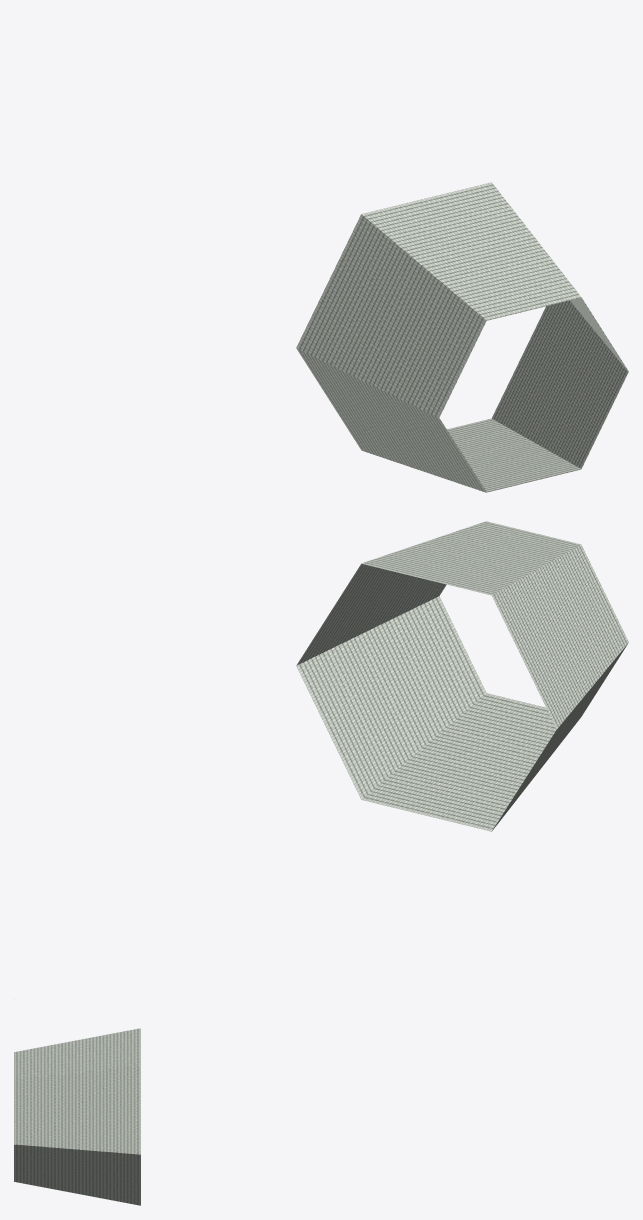
File: MeshFloorLamp_27_0_GeomSubset_2.obj
3 renders of one model, top to bottom at view 1: azimuth 30°, elevation 25°; view 2: azimuth 150°, elevation 25°; view 3: azimuth 270°, elevation 25°, orthographic. The views are drawn at different scales.
Parts seen in each view (by area): view 1: MeshFloorLamp_27_0_GeomSubset_2; view 2: MeshFloorLamp_27_0_GeomSubset_2; view 3: MeshFloorLamp_27_0_GeomSubset_2.
Part boxes in pixels (bbox=[...]): MeshFloorLamp_27_0_GeomSubset_2: bbox=[296, 182, 628, 492]; MeshFloorLamp_27_0_GeomSubset_2: bbox=[296, 521, 628, 831]; MeshFloorLamp_27_0_GeomSubset_2: bbox=[14, 1028, 140, 1205].
Size of the model in its own units: 0.5462 by 0.473 by 1.88.
